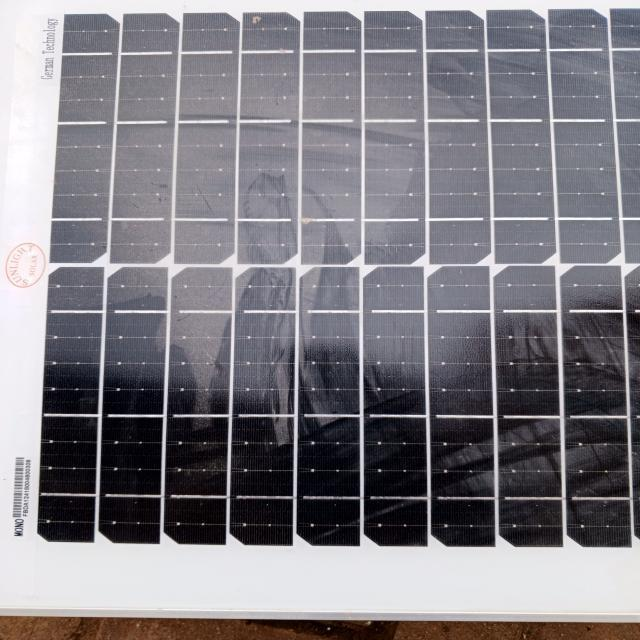Anomaly Solar Panel: (22, 0, 640, 606)
Surface Contaminant: (69, 6, 348, 580), (338, 14, 640, 409)
